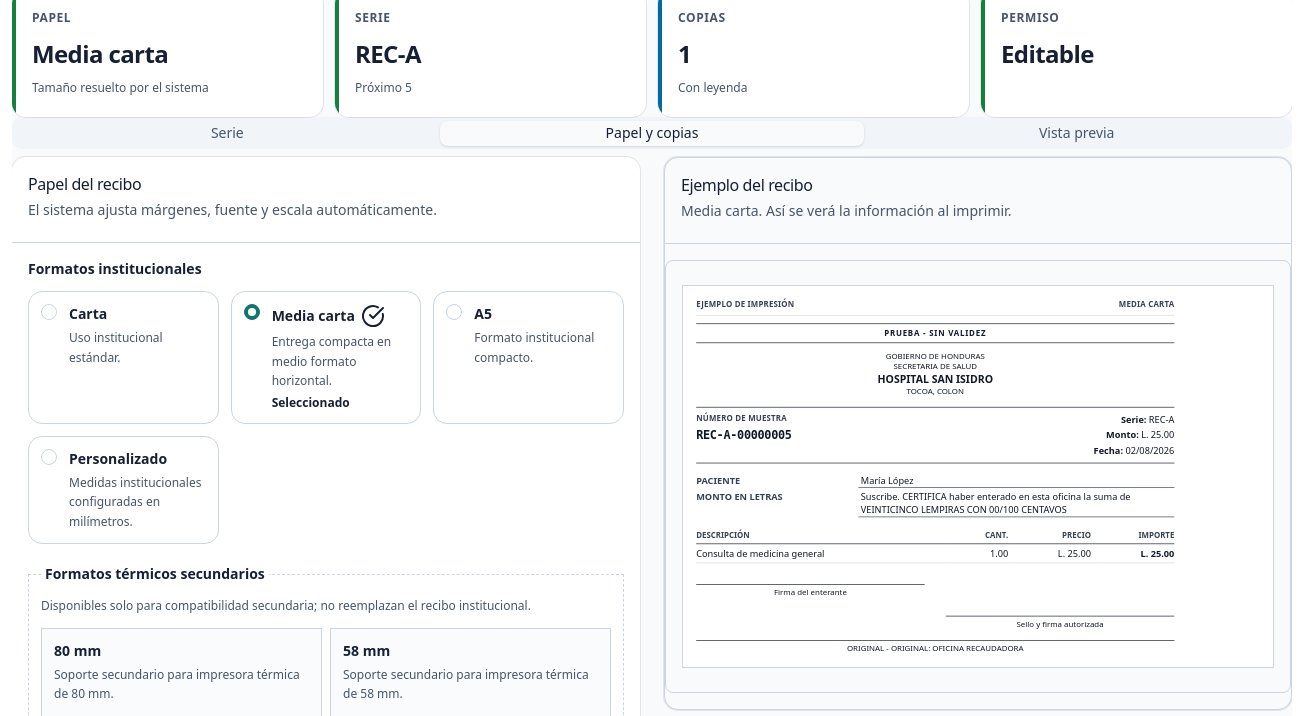
Scenario: InstitutionalReceiptSettingsView › protects technical paper controls behind the advanced receipt permission
Press the mouse on the tab "Papel y copias" at (652, 133), box [440, 121, 864, 146]
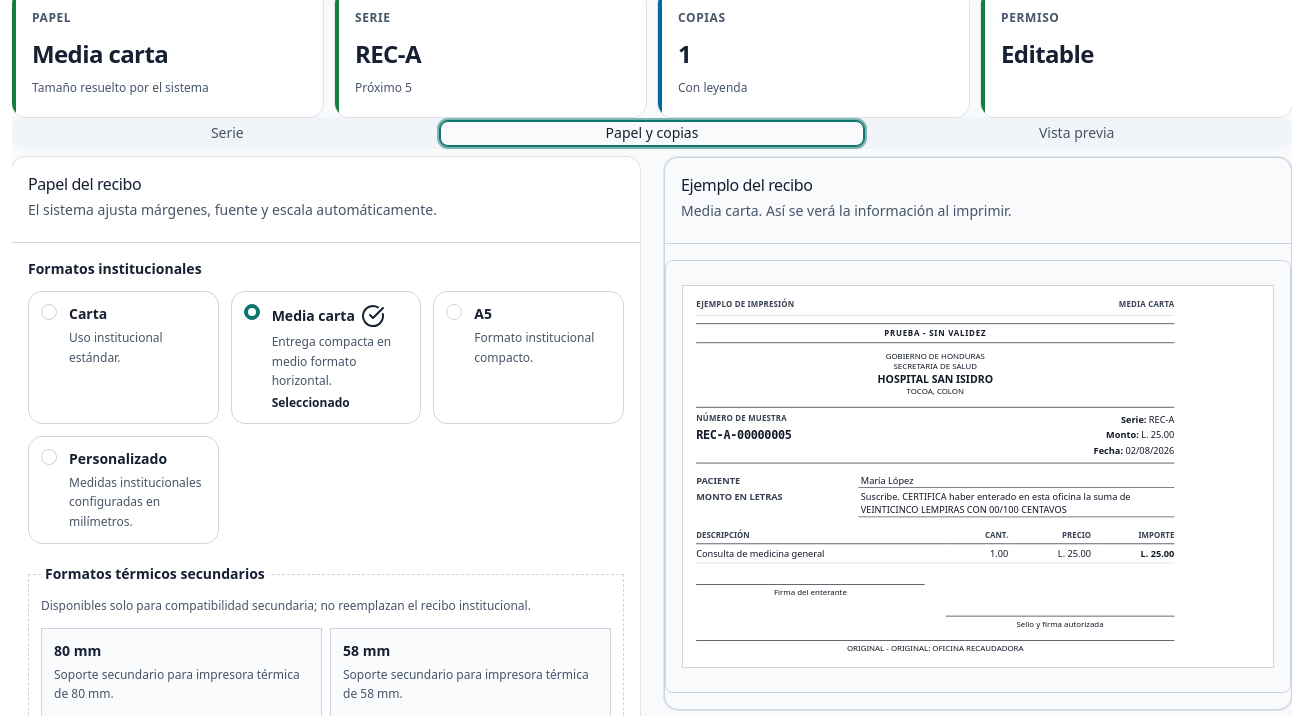
Click the tab "Papel y copias" at (652, 133), box [440, 121, 864, 146]
(page scrolled)
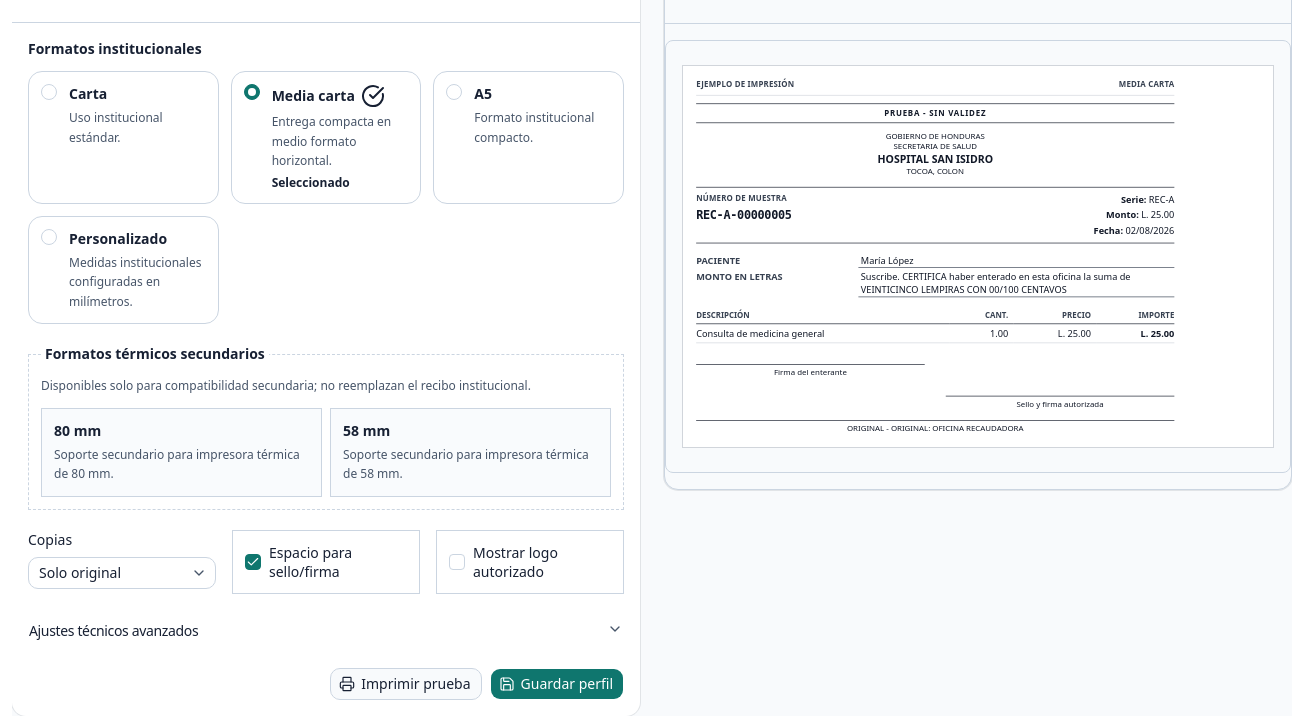
Click the button "Ajustes técnicos avanzados" at (114, 630), box [28, 610, 624, 652]
(page scrolled)
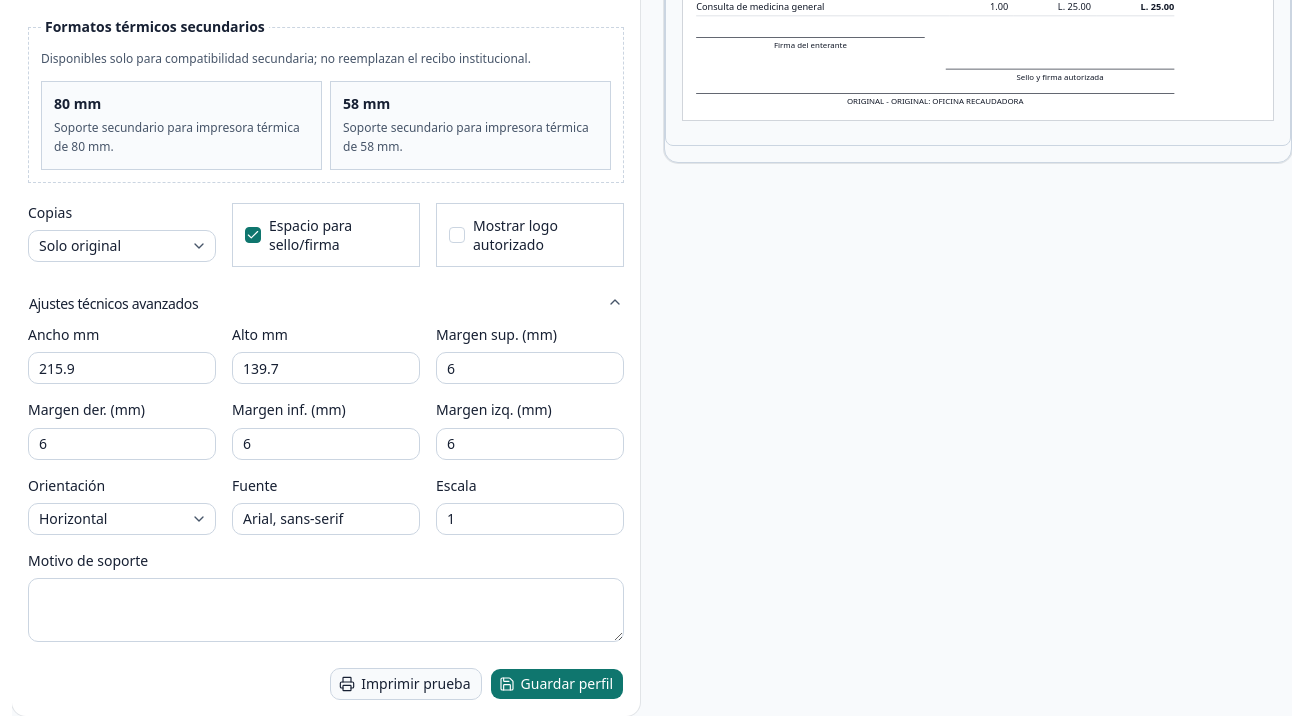
expect the number field labelled "Ancho mm" is shown: met, box [28, 352, 216, 384]
expect the number field labelled "Alto mm" is shown: met, box [232, 352, 420, 384]
expect the text box labelled "Motivo de soporte" is shown: met, box [28, 578, 624, 642]
